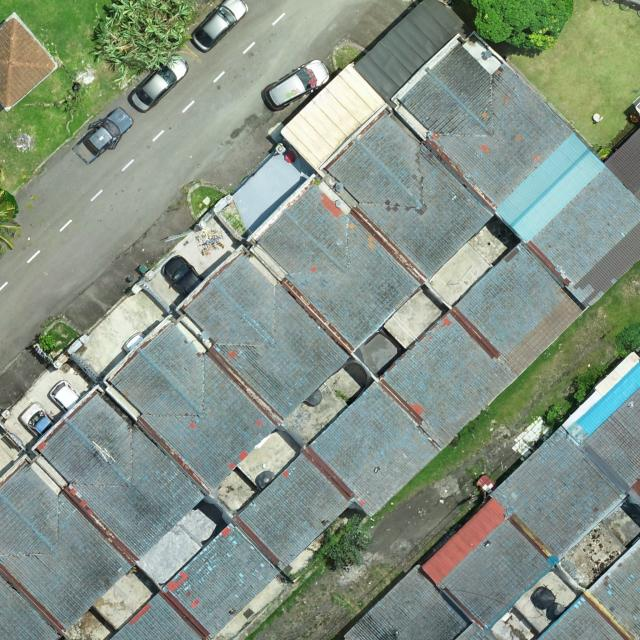tree: (87, 0, 199, 88), (469, 0, 574, 55), (312, 512, 372, 572)
